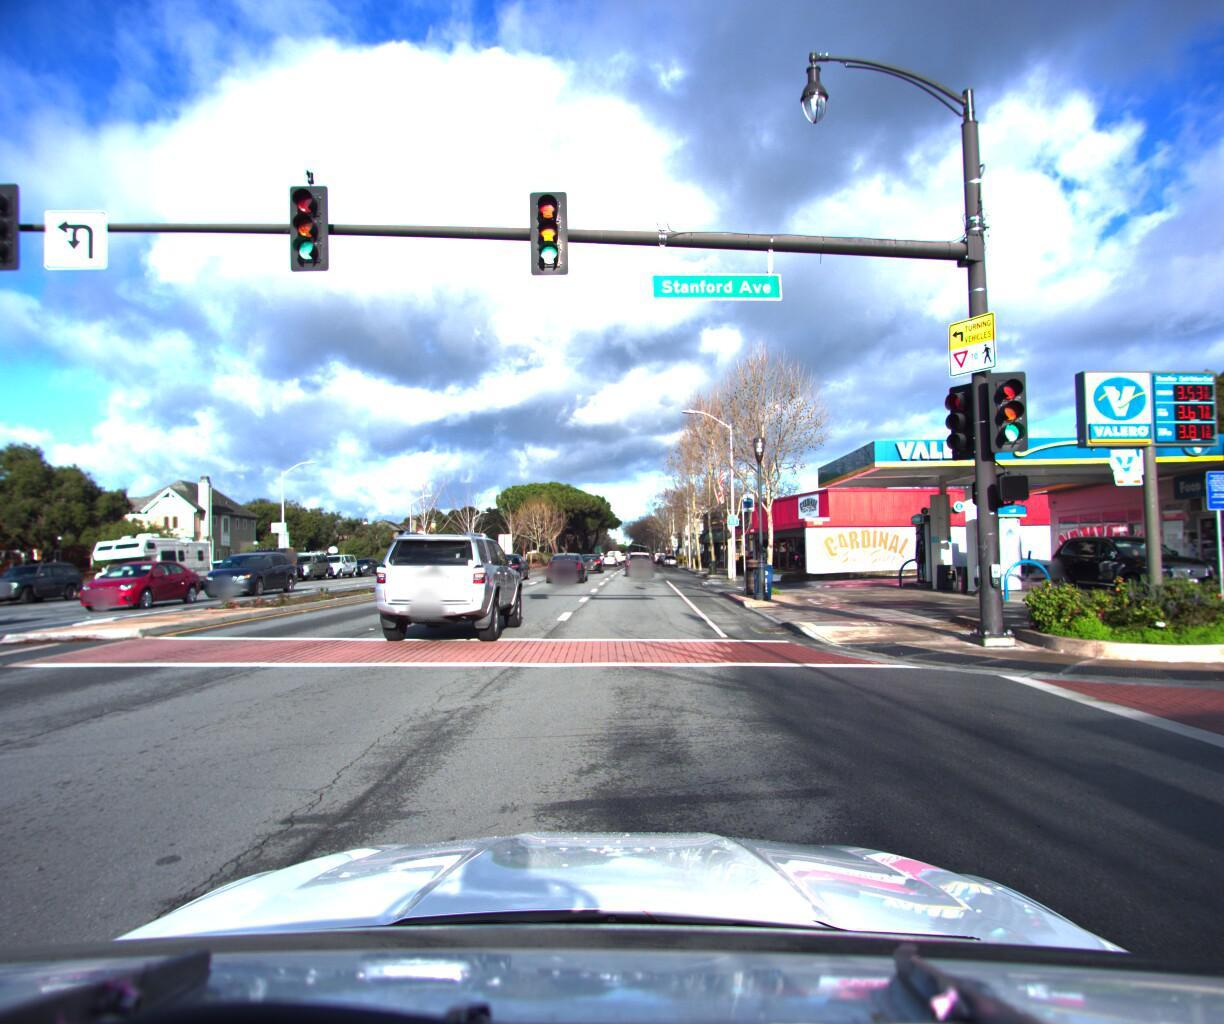car: (369, 526, 532, 648), (1033, 520, 1224, 598), (65, 555, 215, 608), (195, 546, 306, 595), (0, 558, 95, 606), (236, 540, 301, 581), (279, 544, 333, 577), (546, 550, 591, 580), (313, 547, 360, 575), (622, 546, 652, 573), (0, 564, 8, 653), (576, 551, 604, 571)
other_vehicle: (80, 525, 223, 592)
